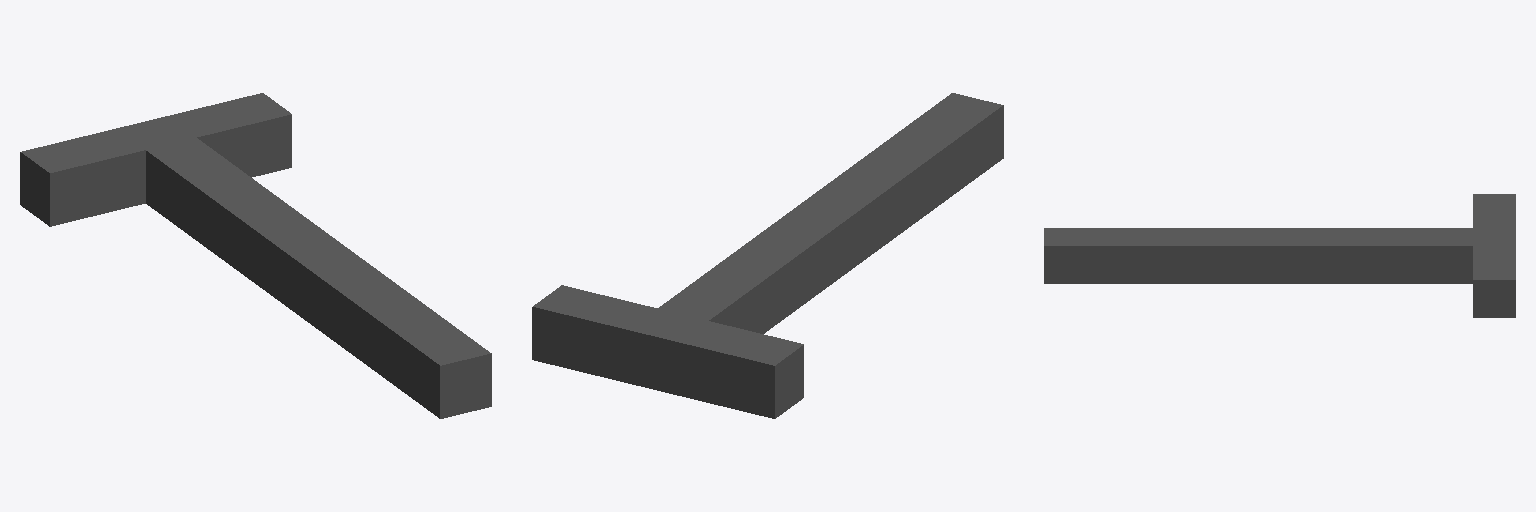
The robot description file, URDF, robot "obj_se3":
<?xml version="1.0" encoding="utf-8"?>
<robot name="obj_se3">
    
    <!-- center of mass -->
    <link name="obj_com">
        <inertial>
            <!-- use scripts/compute_object_inertia.py to compute inertia properties -->
            <!-- <origin xyz="0.0 0.0 0.0" rpy=".0 .0 .0" /> -->
            
            <!-- Ixx = Izz = 1/12 m (l^2+h^2), Iyy = 1/12 m (h^2+h^2), h = 0.04m, l = 0.4m-->
            <!-- no load -->
             <!-- <mass value="1.2" /> -->
            <!-- <inertia ixx="0.014" ixy=".0" ixz=".0" iyy="0.00028" iyz=".0" izz="0.014" />  -->
            <!-- 4kg added load closest -->
             <!-- <mass value="5.2" />
             <inertia ixx="0.02876" ixy=".0" ixz=".0" iyy="0.01252" iyz=".0" izz="0.02316" /> -->
              <!-- <mass value="9.2" />
             <inertia ixx="0.05352" ixy=".0" ixz=".0" iyy="0.02476" iyz=".0" izz="0.04232" /> -->

            <!-- <mass value="1.4000000000000001" />
            <origin xyz="0.0 0.04714285714285714 0.0" rpy="0.0 0.0 0.0" />
            <inertia ixx="0.029413333333333333" ixy="0.0" ixz="0.0" iyy="0.0013333333333333335" iyz="0.0" izz="0.030373333333333336" />  -->

            <!-- <mass value="5.4" />
            <origin xyz="0.0 0.012222222222222221 0.0" rpy=".0 .0 .0" />
            <inertia ixx="0.04418000000000001" ixy="0.0" ixz="0.0" iyy="0.013600000000000001" iyz="0.0" izz="0.03953999999999999" />  -->

            <mass value="9.4" />
            <origin xyz="0.0 0.007021276595744681 0.0" rpy=".0 .0 .0" />
            <inertia ixx="0.06894666666666667" ixy="0.0" ixz="0.0" iyy="0.025866666666666663" iyz="0.0" izz="0.05870666666666666" /> 

            <!-- <mass value="11.4" />
            <origin xyz="0.0 0.005789473684210527 0.0" rpy=".0 .0 .0" /> -->
            <!-- <inertia ixx="0.08133" ixy="0.0" ixz="0.0" iyy="0.031999999999999994" iyz="0.005625" izz="0.06828999999999999" />  -->

            <!-- use this for simulation as small inertias cause numerical issues -->
            <!-- <inertia ixx="1.0" ixy="0.0" ixz="0.0" iyy="1.0" iyz="0.0" izz="1.0"/>  -->
        </inertial>
        <visual>
            <origin xyz="0 0 0" rpy="0 0 0" />
            <geometry>
                <mesh filename="meshes/object/se3_object.stl"/>
            </geometry>
            <material name="">
                <color rgba="0.4 0.4 0.4 1.0" />
            </material>
        </visual>
        <collision>
            <origin xyz="0 0 0" rpy="0 0 0" />
            <geometry>
                <mesh filename="meshes/object/se3_object.stl"/>
            </geometry>
            <material name="">
                <color rgba="0.4 0.4 0.4 1.0" />
            </material>
        </collision>
    </link>

    <!-- measured frame -->
    <joint name="com_measured_joint" type="fixed">
        <parent link="obj_com"/>
        <child link="obj_measured"/>
        <origin xyz="0 0 0" rpy="0 0 0"/>
    </joint>
    <link name="obj_measured"></link>

    <!-- grasp frames -->
    <joint name="virt_stick_01" type="fixed">
        <parent link="obj_com"/>
        <child link="obj_p_01"/>
        <origin xyz="0 -0.14 0" rpy="1.57079 3.14 1.57079"/>
    </joint>
    <link name="obj_p_01"></link>

    <joint name="virt_stick_02" type="fixed">
        <parent link="obj_com"/>
        <child link="obj_p_02"/>
        <!-- <origin xyz="0 0.16 0" rpy="1.57079 0 1.57079"/> -->
        <origin xyz="0 0.24 0" rpy="1.57079 3.14 0.0"/>
    </joint>
    <link name="obj_p_02"></link>

    <!-- link that shall be tracked by controller -->
    <joint name="obj_pref_joint" type="fixed">
        <parent link="obj_com" />
        <child link="obj_ref" />
        <origin rpy="0 0 0" xyz="0 0 0" />
    </joint> 
    <link name="obj_ref"/>

</robot>

--- What the picture shows (computed from the rendered views, not written in the file) ---
Views: 3 orthographic renders of the robot side by side, from view 1: azimuth 30°, elevation 25°; view 2: azimuth 150°, elevation 25°; view 3: azimuth 270°, elevation 25°.
Robot: obj_se3 — 5 links, 4 joints (4 fixed); root link obj_com; default pose: all joints at 0.
Links seen in each view (by area): view 1: obj_com; view 2: obj_com; view 3: obj_com.
Boxes of the visible links, x1=… form: obj_com: x1=20, y1=93, x2=491, y2=418; obj_com: x1=532, y1=93, x2=1003, y2=418; obj_com: x1=1044, y1=194, x2=1515, y2=317.
Bounding box of the posed robot: 0.19 × 0.44 × 0.04 m (x, y, z).
Meshes: 1 distinct files referenced, 1 mesh visuals loaded (1 binary STL).